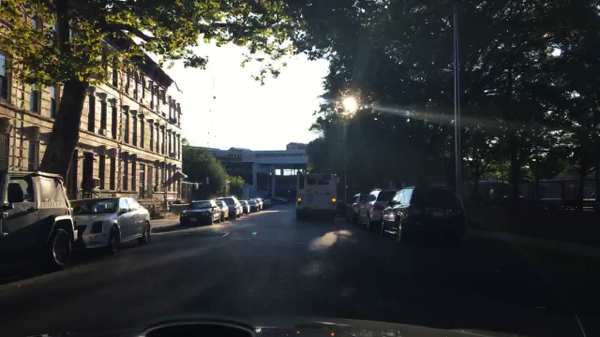car: (1, 171, 73, 269), (380, 187, 466, 244), (69, 198, 151, 254), (355, 190, 396, 230), (469, 180, 523, 208), (180, 200, 221, 228), (345, 194, 371, 223), (218, 196, 243, 219), (215, 202, 230, 222), (333, 200, 347, 217), (237, 200, 250, 215), (251, 198, 264, 212), (247, 200, 259, 212), (272, 195, 287, 204), (270, 197, 284, 205), (261, 200, 268, 209), (265, 200, 272, 207)
person: (287, 188, 292, 202), (151, 205, 154, 221), (268, 188, 272, 199), (146, 205, 151, 213), (265, 188, 268, 198), (176, 199, 179, 205)
truck: (295, 171, 337, 221)
